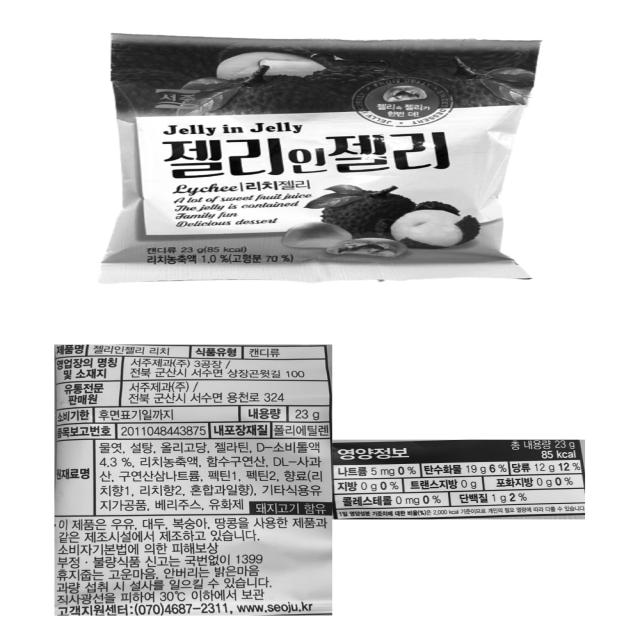Nutrition Label: (326, 432, 606, 532)
